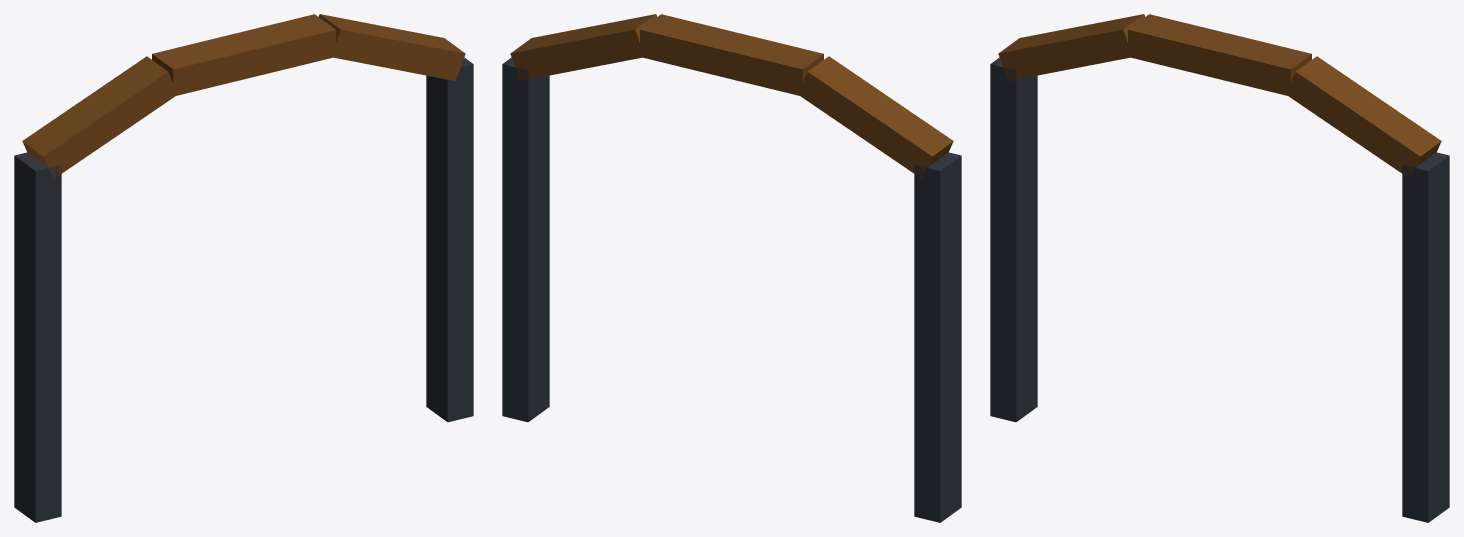
The model's file is nf_arch_rib.obj.
The picture shows the model from 3 angles, left to right: view 1: azimuth 30°, elevation 25°; view 2: azimuth 150°, elevation 25°; view 3: azimuth 330°, elevation 25°; orthographic projection.
Visible parts, largest first — view 1: left_post, right_post, arch_mid, arch_left, arch_right; view 2: left_post, right_post, arch_mid, arch_left, arch_right; view 3: right_post, left_post, arch_mid, arch_right, arch_left.
Part boxes in pixels (x1=…): left_post: x1=14, y1=152, x2=61, y2=522; right_post: x1=426, y1=57, x2=473, y2=422; arch_mid: x1=152, y1=14, x2=335, y2=95; arch_left: x1=22, y1=56, x2=178, y2=178; arch_right: x1=318, y1=14, x2=465, y2=80; left_post: x1=914, y1=152, x2=961, y2=522; right_post: x1=502, y1=57, x2=549, y2=422; arch_mid: x1=640, y1=14, x2=823, y2=95; arch_left: x1=797, y1=56, x2=953, y2=178; arch_right: x1=510, y1=14, x2=657, y2=80; right_post: x1=1402, y1=152, x2=1449, y2=522; left_post: x1=990, y1=57, x2=1037, y2=422; arch_mid: x1=1128, y1=14, x2=1311, y2=96; arch_right: x1=1286, y1=56, x2=1441, y2=178; arch_left: x1=998, y1=14, x2=1145, y2=80.
Bounding box in the file's own units: 4.04 × 3.7 × 0.34.
